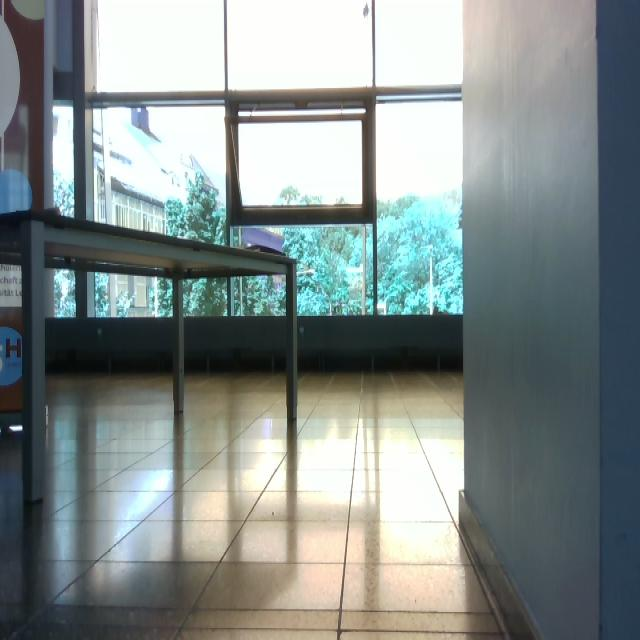light bulb: (1, 15, 21, 139), (1, 168, 33, 214), (131, 107, 162, 143), (363, 3, 370, 19)
tiled floor: (2, 368, 507, 638)
